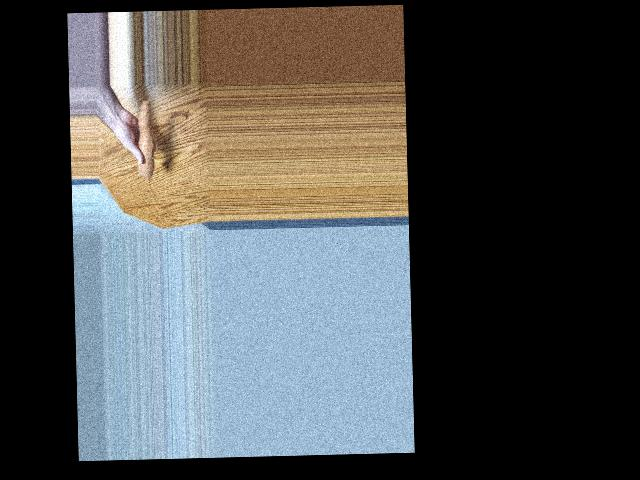sweet_potato: (132, 100, 157, 175)
